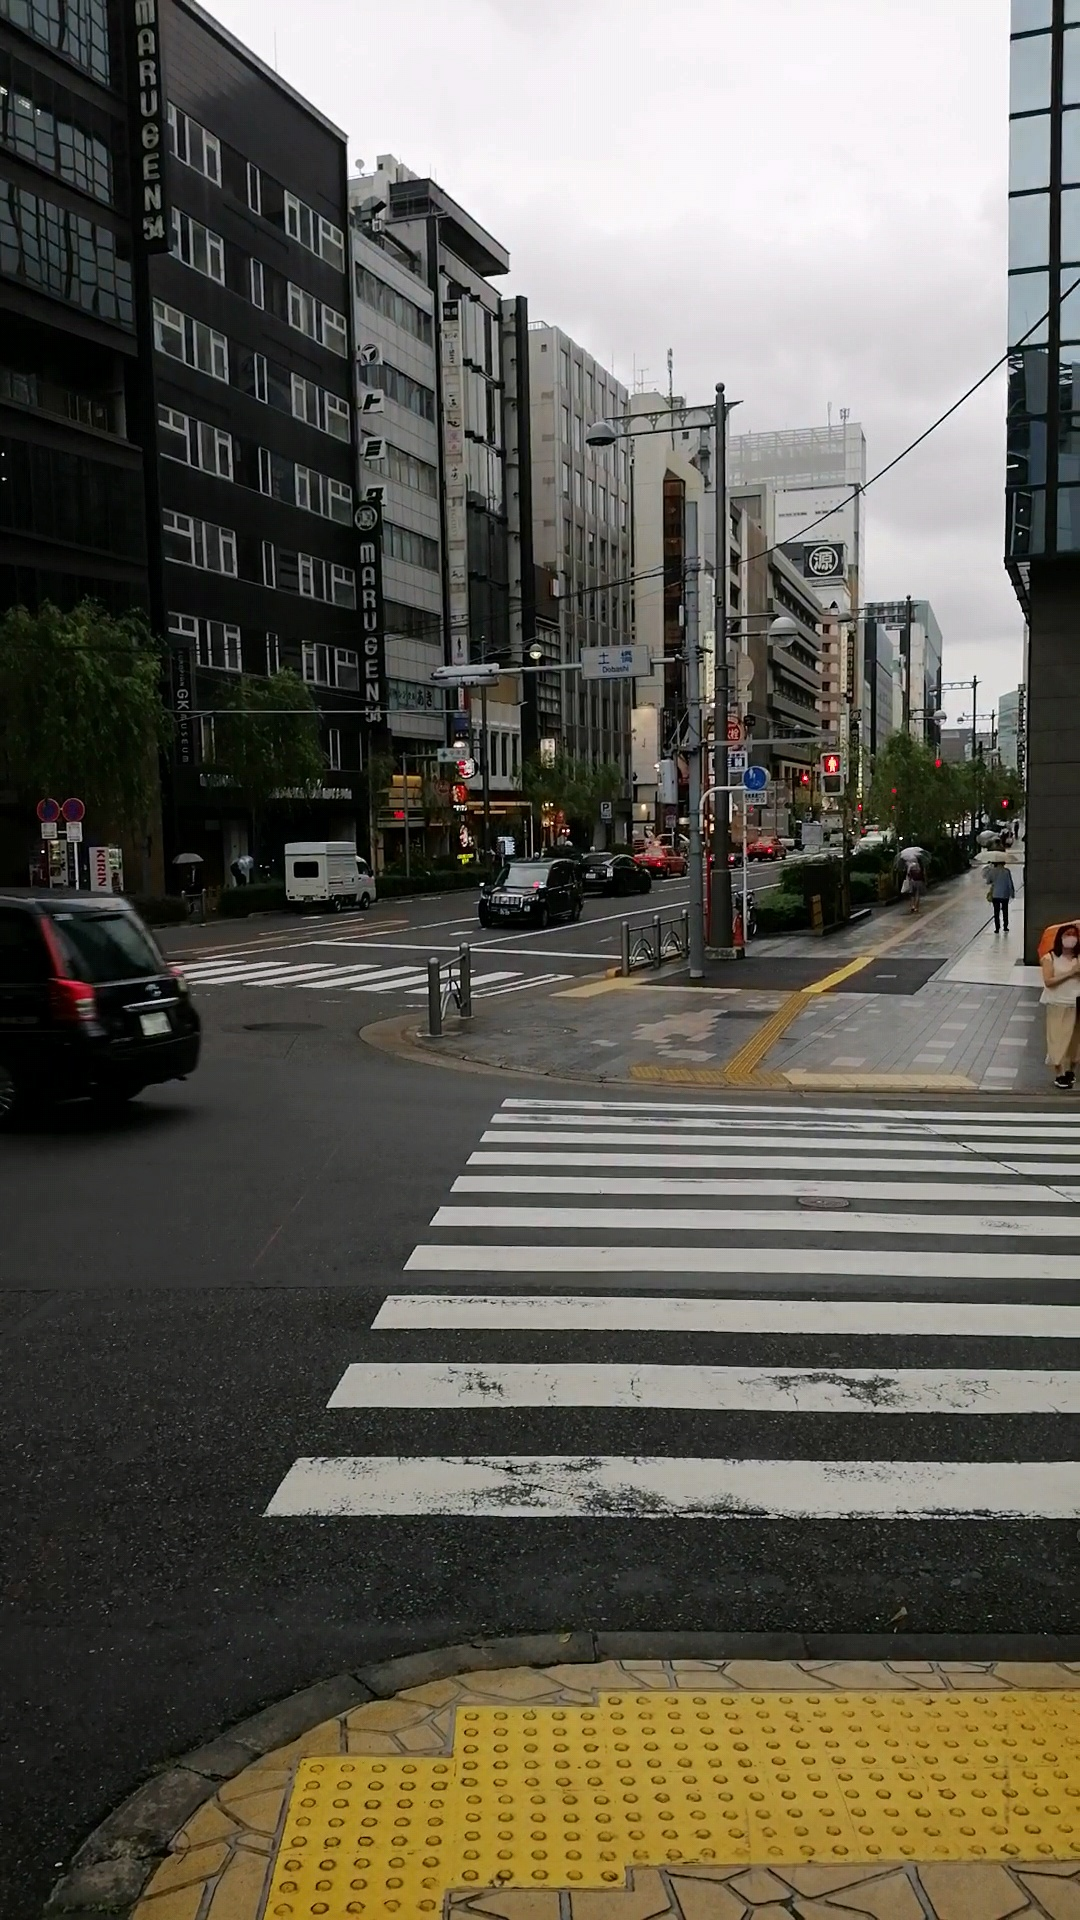red: (819, 750, 844, 796)
